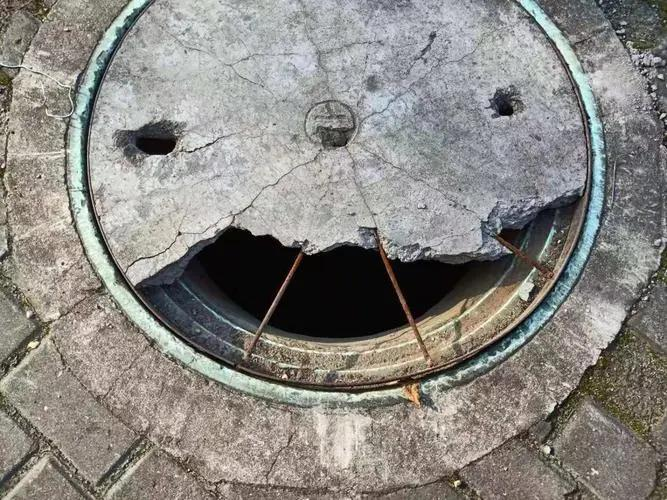wellcover: (58, 0, 625, 406)
